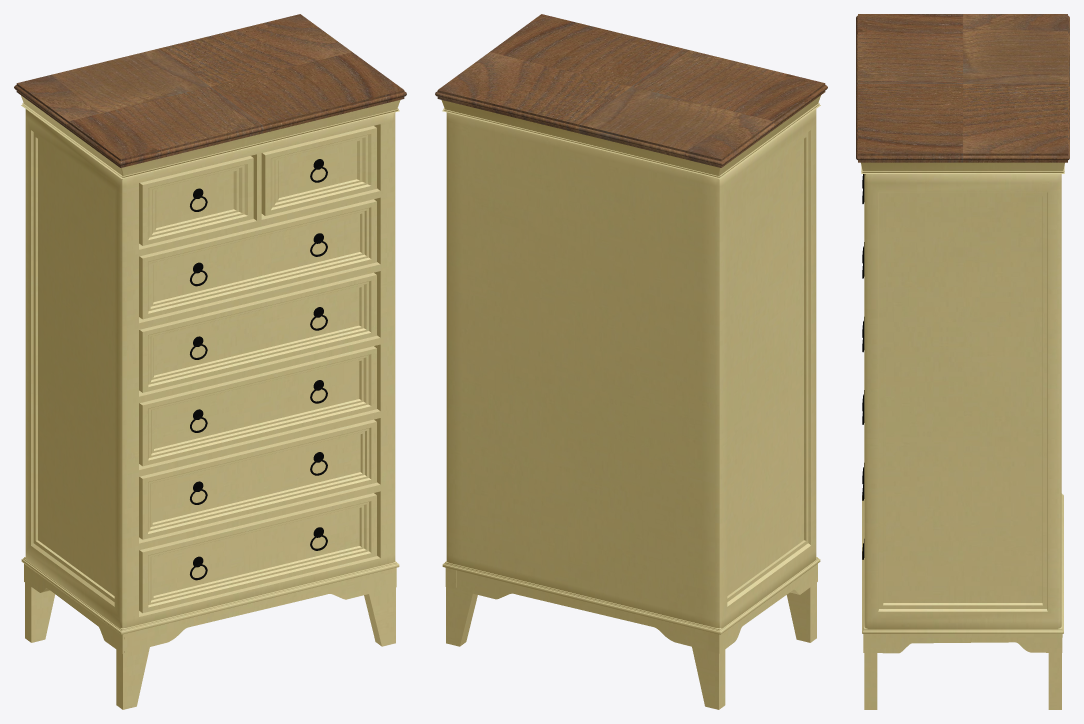
Rendered from example11.glb.
3 renders of one model, left to right at view 1: azimuth 30°, elevation 25°; view 2: azimuth 150°, elevation 25°; view 3: azimuth 270°, elevation 25°, orthographic.
Visible parts, largest first — view 1: Merged Objects 1, Cube_1, Merged Objects; view 2: Merged Objects 1, Cube_1; view 3: Merged Objects 1, Cube_1, Merged Objects.
Boxes of the visible parts, x1,y1,x2,y2 form: Merged Objects 1: (21, 95, 400, 709); Cube_1: (14, 14, 406, 167); Merged Objects: (190, 159, 327, 580); Merged Objects 1: (441, 95, 820, 709); Cube_1: (435, 14, 827, 167); Merged Objects 1: (861, 162, 1064, 709); Cube_1: (856, 14, 1069, 162); Merged Objects: (862, 174, 864, 559).
Bounding box in the file's own units: 0.4803 × 0.8817 × 0.3058.
Materials: 3 (2 with a texture image).
